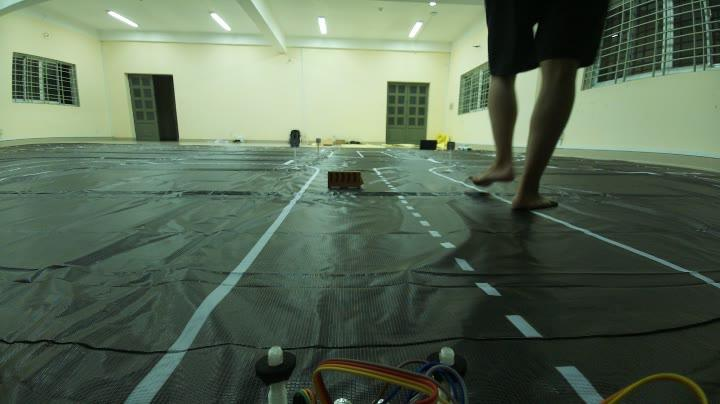roadblock: (318, 164, 371, 200)
